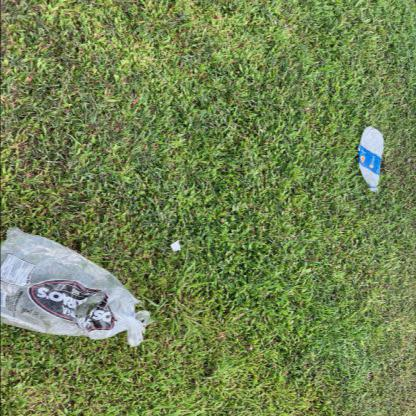Bottle cap: (358, 127, 383, 193)
Plastic bag - wrapper: (1, 227, 154, 348)
Unlabeled litter: (170, 239, 180, 252)
